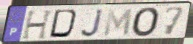7: (163, 6, 184, 37)
D: (48, 9, 81, 40)
H: (20, 9, 55, 41)
J: (80, 8, 105, 39)
M: (102, 8, 134, 38)
O: (131, 7, 162, 39)
